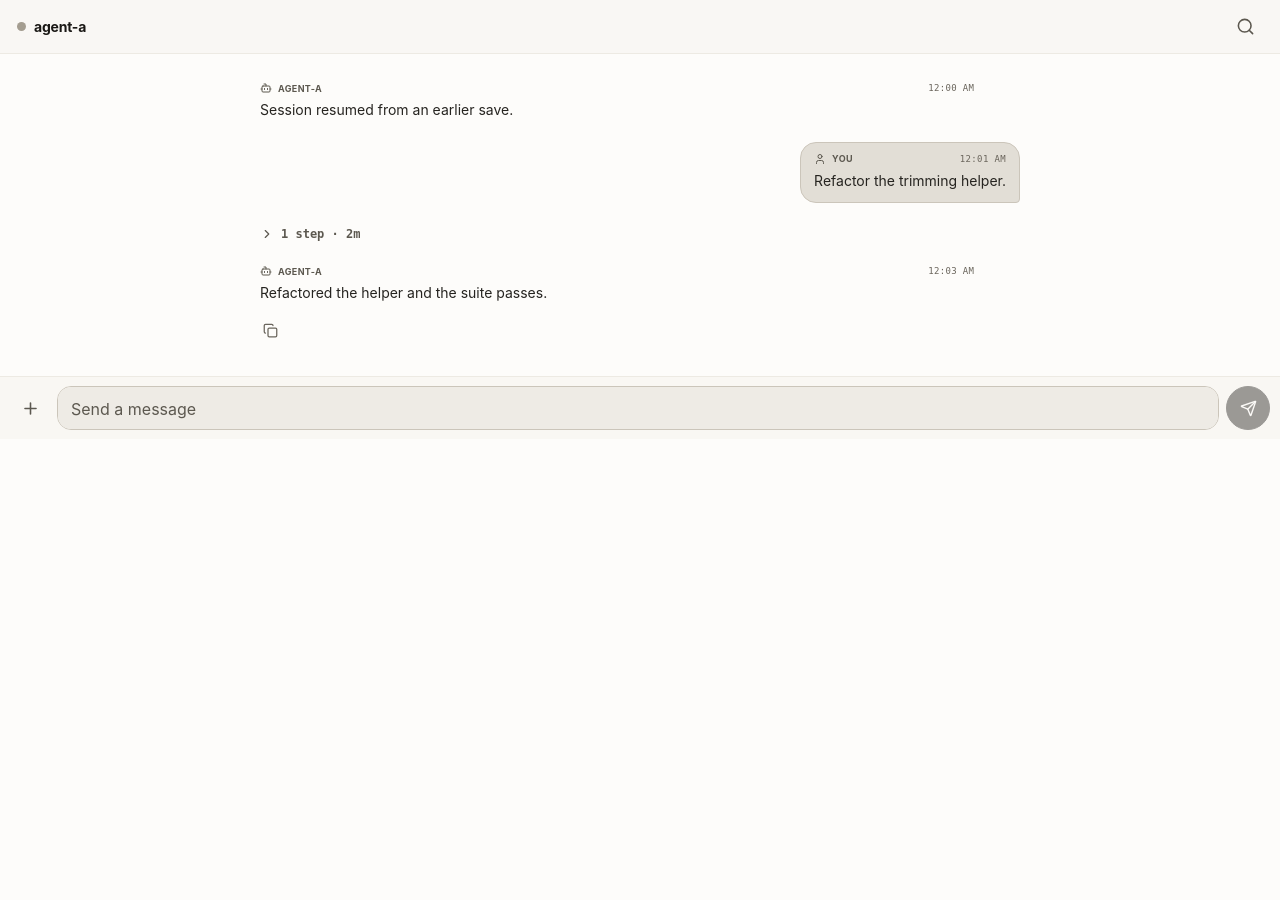
Test: turn grouping in the panel › offers a Clear search action when a search has no matches
The width and height of the screenshot is (1280, 900).
Click the button named "Search transcript" at (1245, 26), box [1224,6,1266,48]
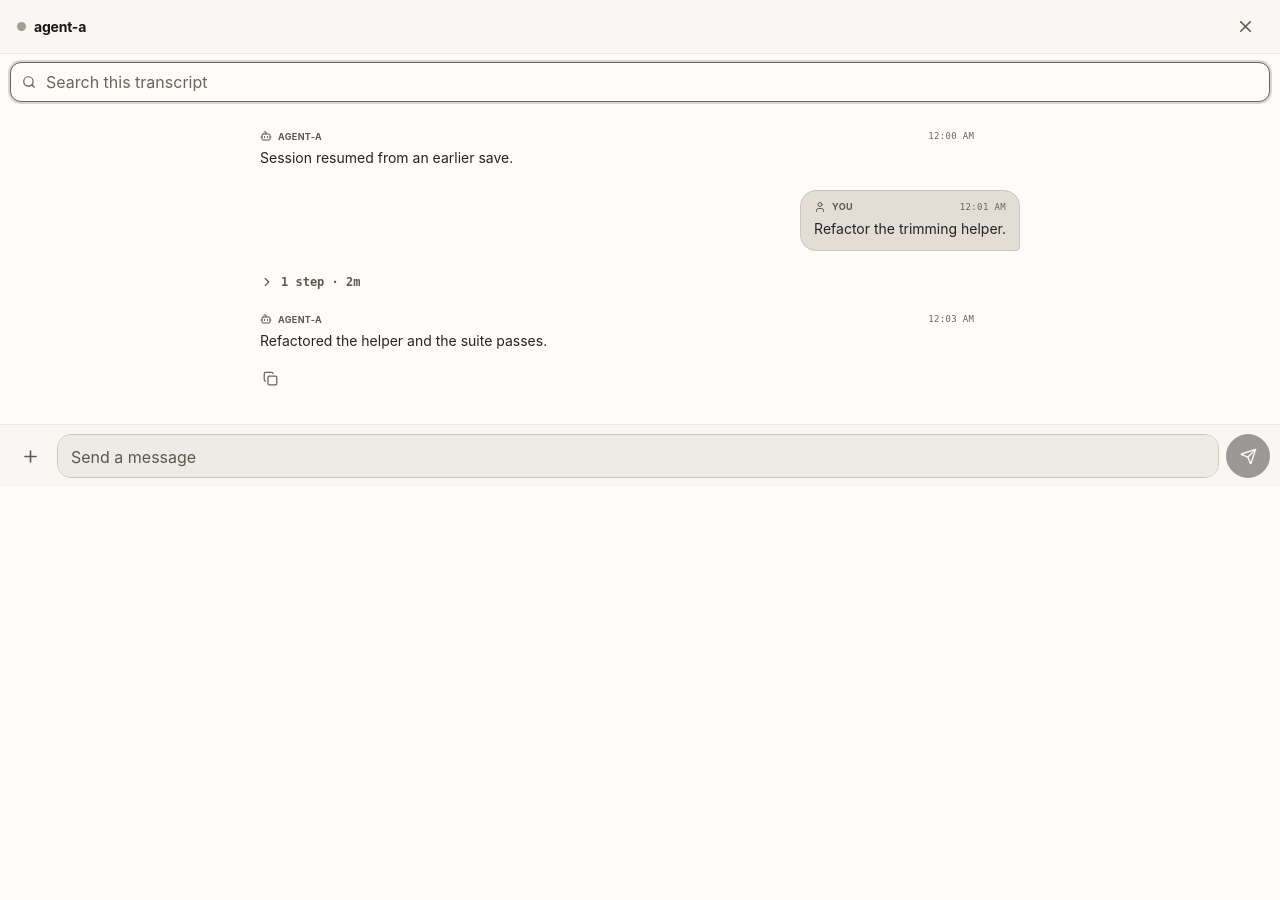
Type "nonexistent-term" into the field labelled "Search this transcript" at (651, 82), box [44,63,1258,101]
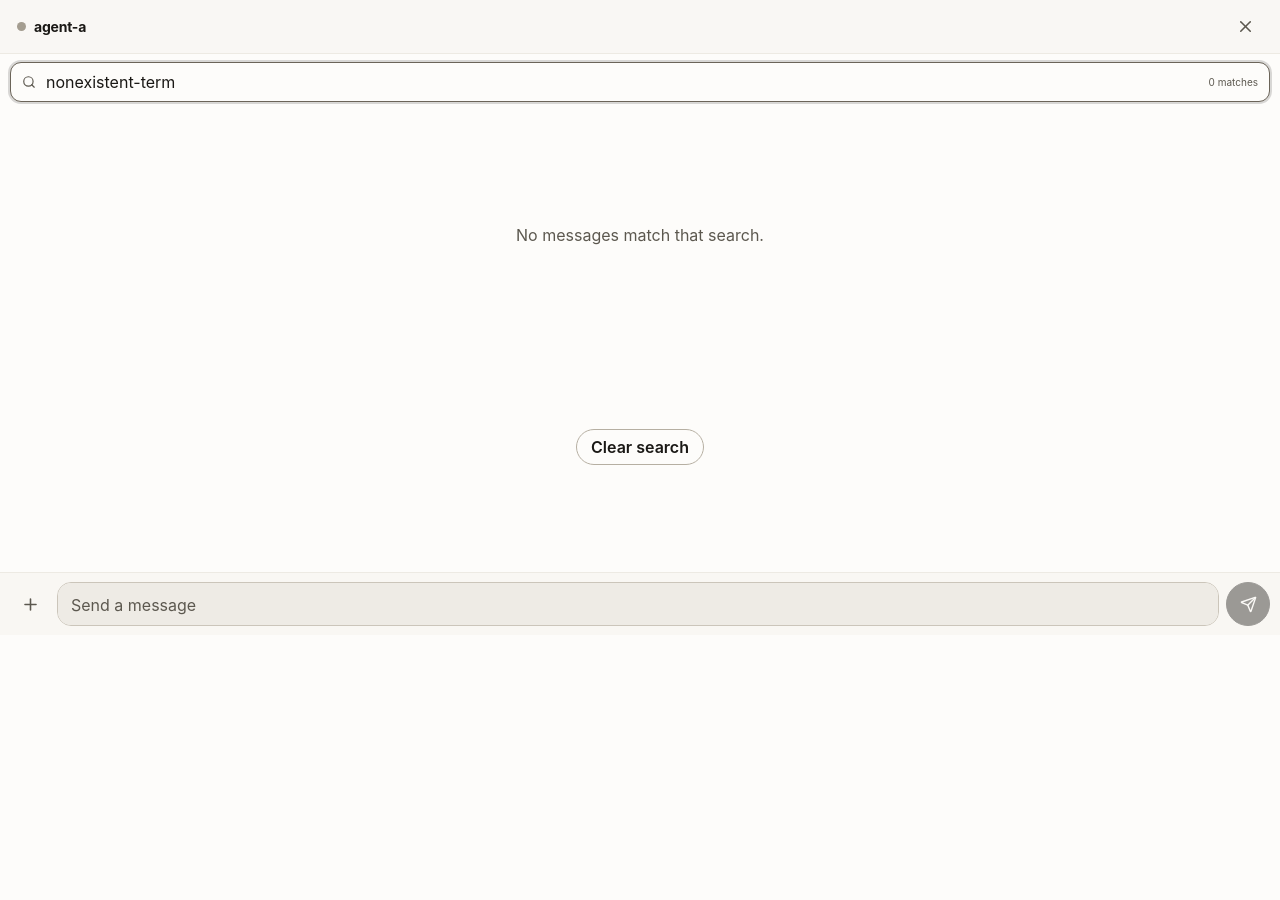
Expected: the text "No messages match that search." is shown, [516,225,764,245]
Click the button "Clear search" at (640, 447), box [576,429,704,465]
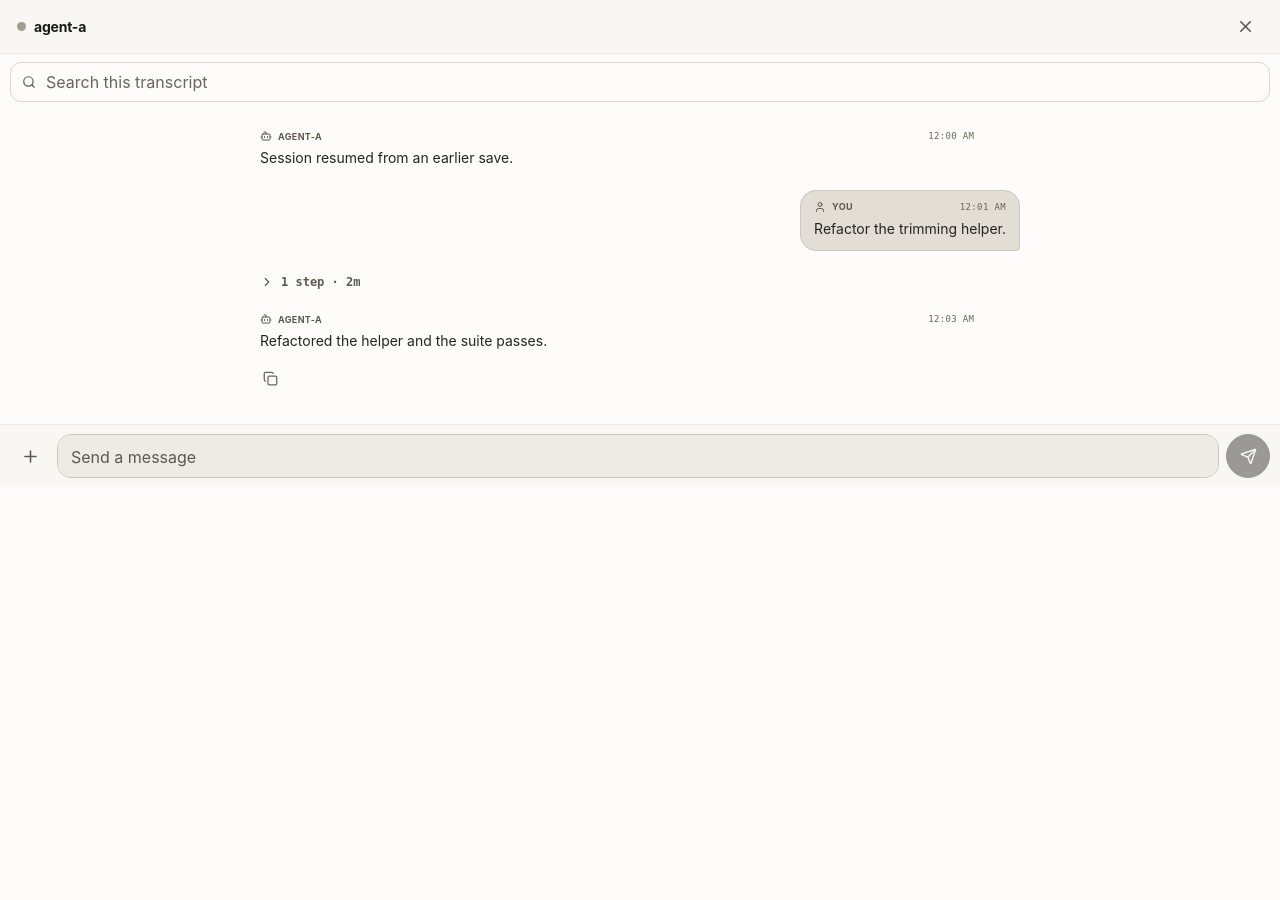
Expected: the field labelled "Search this transcript" is empty, [44,63,1258,101]
Expected: the text "No messages match that search." is gone
